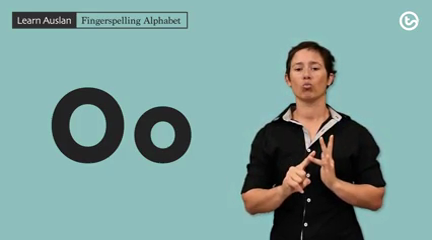O: (279, 129, 349, 200)
